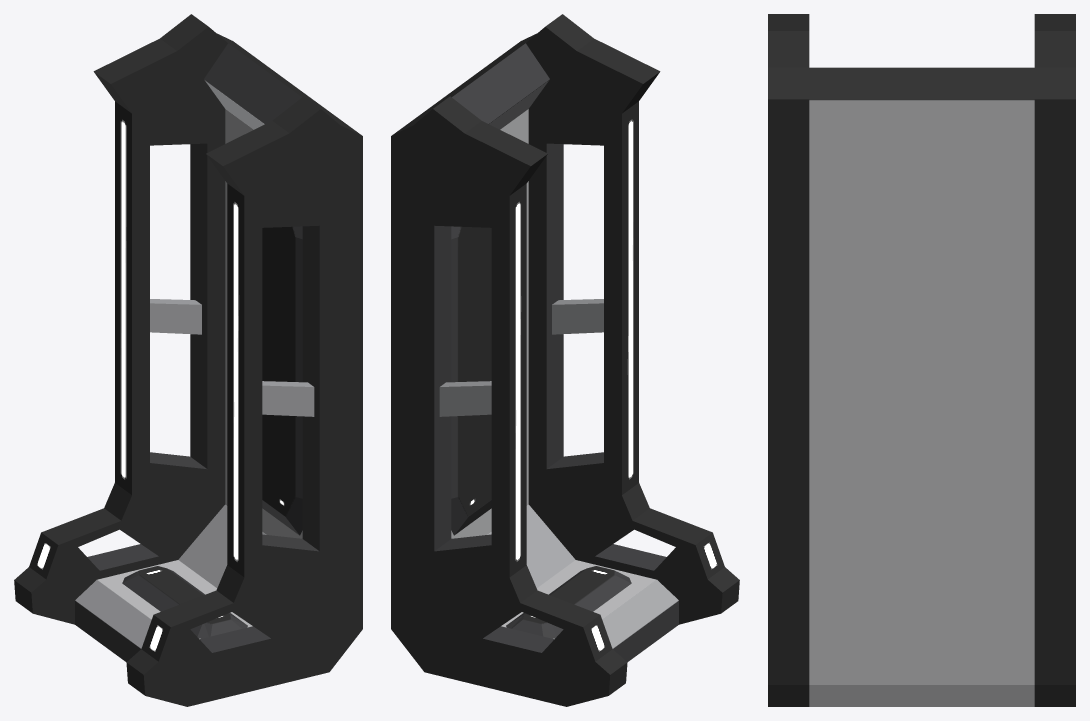
The model's file is HalfWall01.fbx.
The picture shows the model from 3 angles, left to right: view 1: azimuth 30°, elevation 25°; view 2: azimuth 150°, elevation 25°; view 3: azimuth 270°, elevation 25°; orthographic projection. The views are drawn at different scales.
Visible parts, largest first — view 1: HalfWall01; view 2: HalfWall01; view 3: HalfWall01.
Boxes of the visible parts, <box> form: HalfWall01: <box>14,14,362,706</box>; HalfWall01: <box>391,14,739,706</box>; HalfWall01: <box>768,14,1075,706</box>.
Size of the model in its own units: 117 by 289 by 120.
